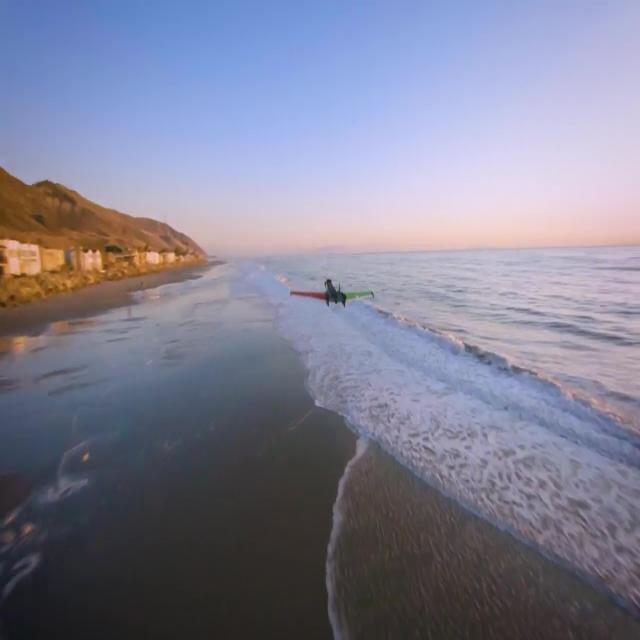iha: (315, 276, 337, 309)
